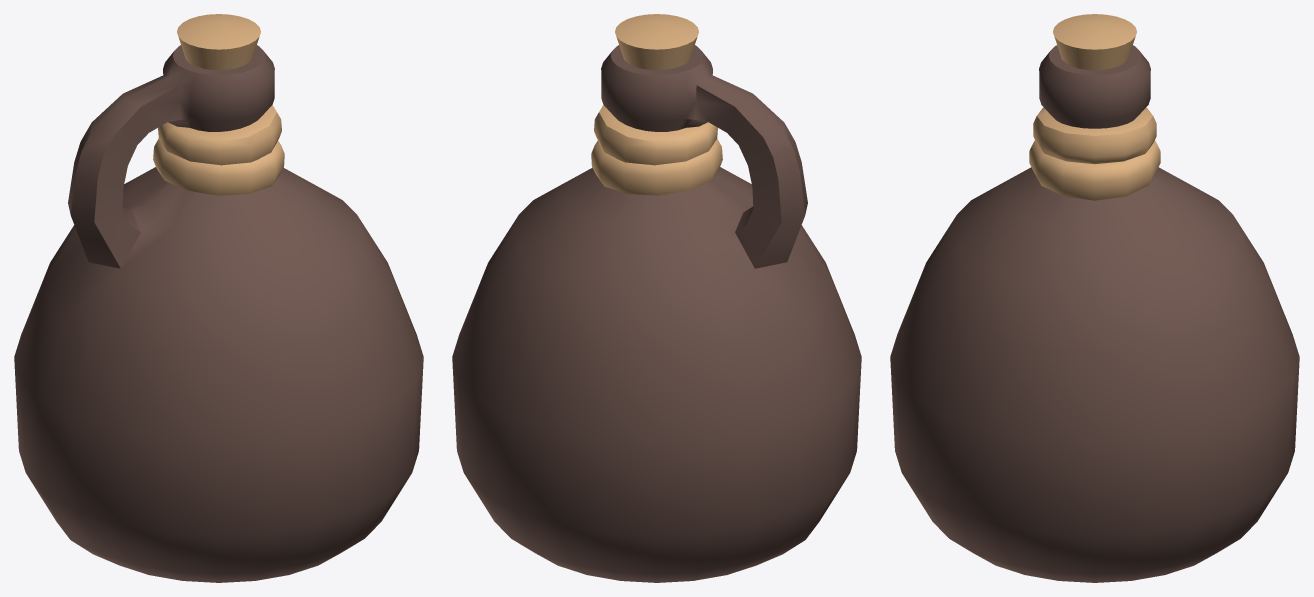
File: ale_bottle_C.gltf.glb
3 renders of one model, left to right at view 1: azimuth 30°, elevation 25°; view 2: azimuth 150°, elevation 25°; view 3: azimuth 270°, elevation 25°, orthographic.
Visible parts, largest first — view 1: ale_bottle_C; view 2: ale_bottle_C; view 3: ale_bottle_C.
Part boxes in pixels (x1,y1,x2,y2): ale_bottle_C: [14, 14, 423, 582]; ale_bottle_C: [452, 14, 861, 582]; ale_bottle_C: [890, 14, 1299, 582].
Size of the model in its own units: 0.5126 by 0.7052 by 0.5095.
